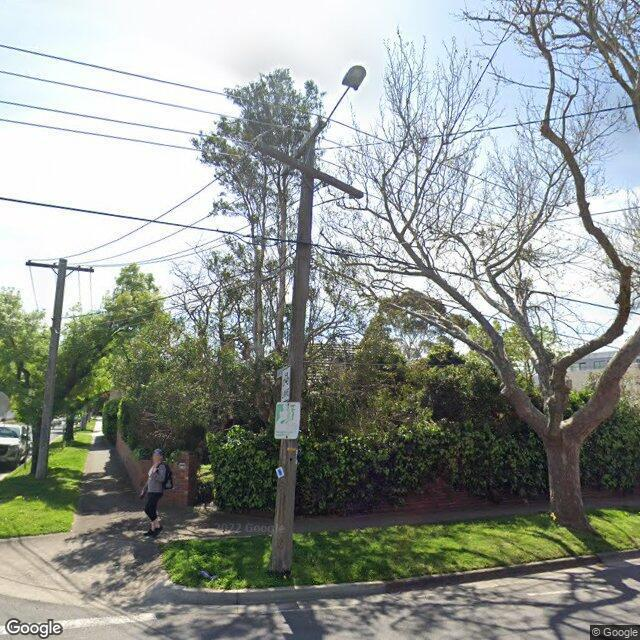crossarm: (254, 140, 364, 198), (280, 120, 327, 176), (26, 262, 94, 272)
streetlight: (323, 65, 366, 126)
timber-pole: (270, 137, 315, 576), (36, 258, 67, 479)
